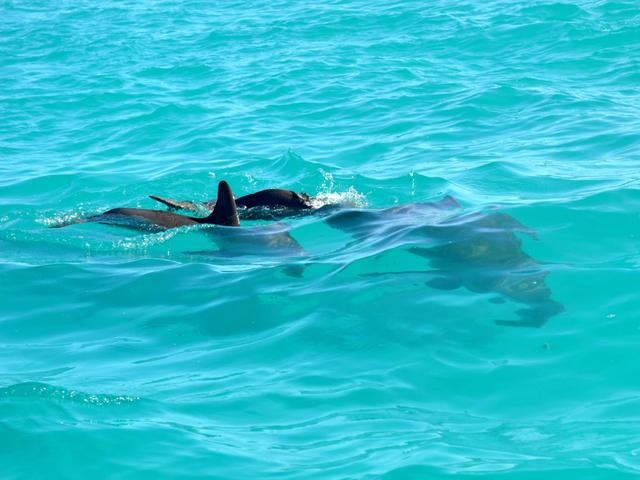dolphin: (53, 164, 427, 287)
